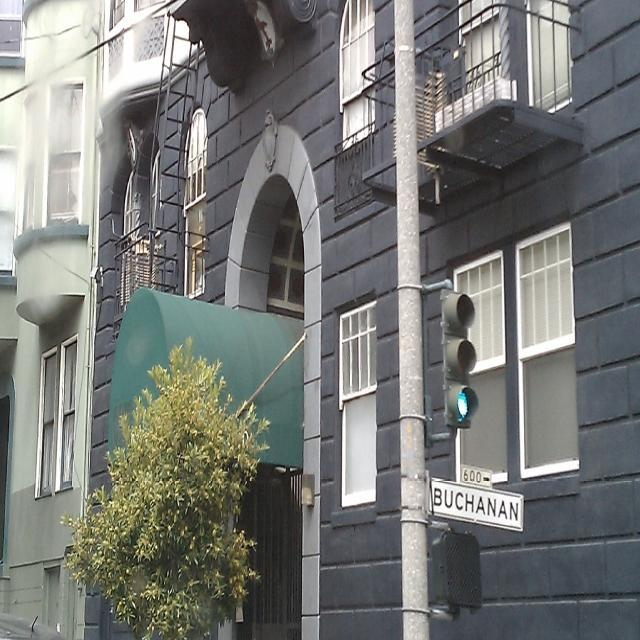traffic light: (440, 291, 479, 427)
